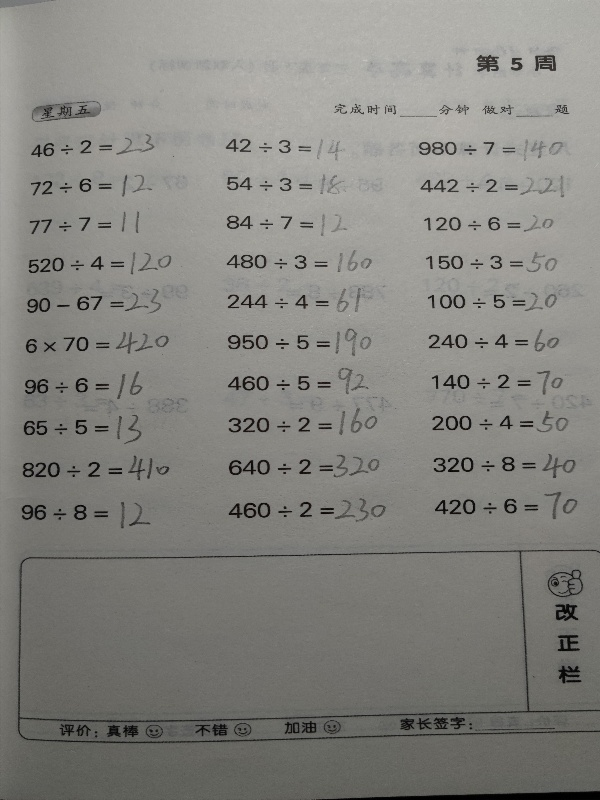equation: (226, 446, 393, 487), (225, 492, 393, 526), (430, 488, 588, 524), (20, 495, 159, 535), (224, 364, 384, 398), (19, 455, 182, 487), (226, 406, 389, 438), (221, 283, 374, 317), (227, 321, 375, 355), (221, 128, 352, 166), (430, 451, 584, 483), (23, 288, 172, 320), (425, 285, 573, 317), (20, 411, 154, 446), (429, 365, 572, 397), (428, 409, 582, 438), (23, 248, 182, 276), (21, 369, 155, 402), (422, 250, 560, 282), (224, 247, 376, 276), (417, 173, 569, 201), (425, 326, 564, 356), (415, 138, 567, 165), (21, 330, 174, 356), (223, 210, 351, 240), (27, 171, 155, 200), (27, 134, 157, 161), (223, 172, 351, 199), (25, 208, 142, 237), (420, 212, 556, 236)
